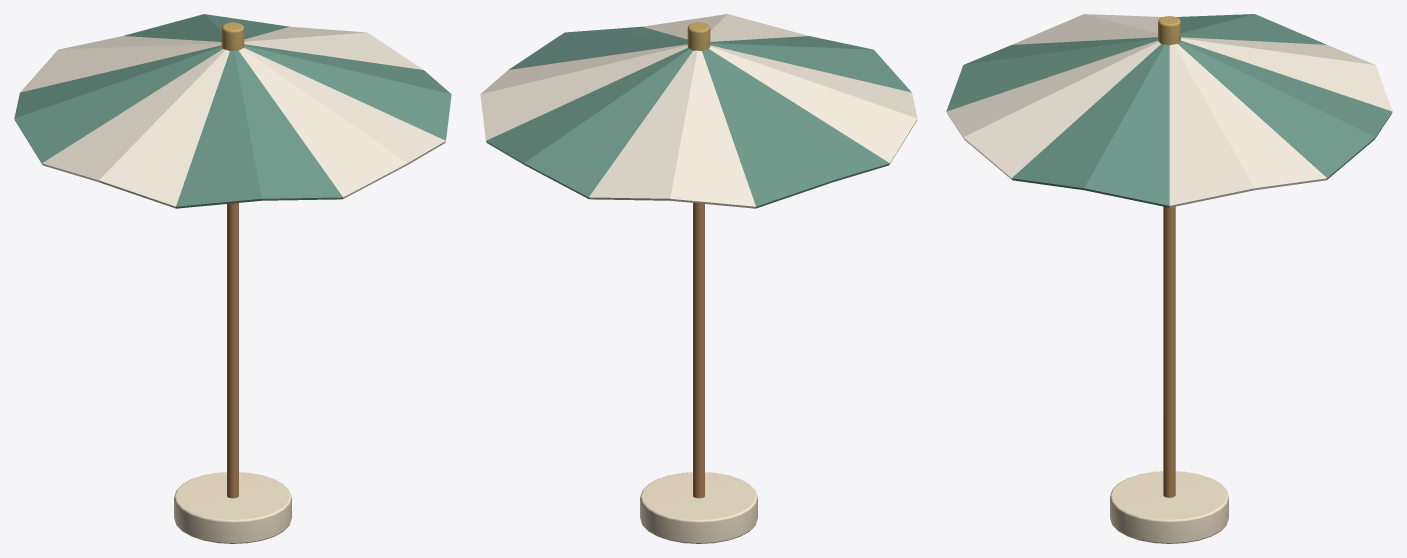
The model's file is pool-umbrella.glb.
3 views of the same model, side by side, from view 1: azimuth 30°, elevation 25°; view 2: azimuth 150°, elevation 25°; view 3: azimuth 270°, elevation 25° (orthographic).
Visible parts, largest first — view 1: pool-umbrella / Warm linen, pool-umbrella / Sea glass upholstery, pool-umbrella / Ivory stone, pool-umbrella / Oak, pool-umbrella / Brass; view 2: pool-umbrella / Sea glass upholstery, pool-umbrella / Warm linen, pool-umbrella / Ivory stone, pool-umbrella / Oak, pool-umbrella / Brass; view 3: pool-umbrella / Sea glass upholstery, pool-umbrella / Warm linen, pool-umbrella / Ivory stone, pool-umbrella / Oak, pool-umbrella / Brass.
Part boxes in pixels (x1,y1,x2,y2): pool-umbrella / Warm linen: (20, 26, 445, 208); pool-umbrella / Sea glass upholstery: (14, 14, 451, 208); pool-umbrella / Ivory stone: (174, 472, 291, 543); pool-umbrella / Oak: (178, 199, 338, 498); pool-umbrella / Brass: (221, 22, 244, 50); pool-umbrella / Sea glass upholstery: (486, 26, 911, 208); pool-umbrella / Warm linen: (480, 14, 917, 208); pool-umbrella / Ivory stone: (640, 472, 757, 543); pool-umbrella / Oak: (593, 199, 753, 498); pool-umbrella / Brass: (687, 22, 710, 50); pool-umbrella / Sea glass upholstery: (946, 14, 1392, 207); pool-umbrella / Warm linen: (946, 14, 1392, 207); pool-umbrella / Ivory stone: (1110, 471, 1228, 543); pool-umbrella / Oak: (1163, 206, 1175, 497); pool-umbrella / Brass: (1158, 16, 1180, 45).
Size of the model in its own units: 2.32 by 2.86 by 2.32.
